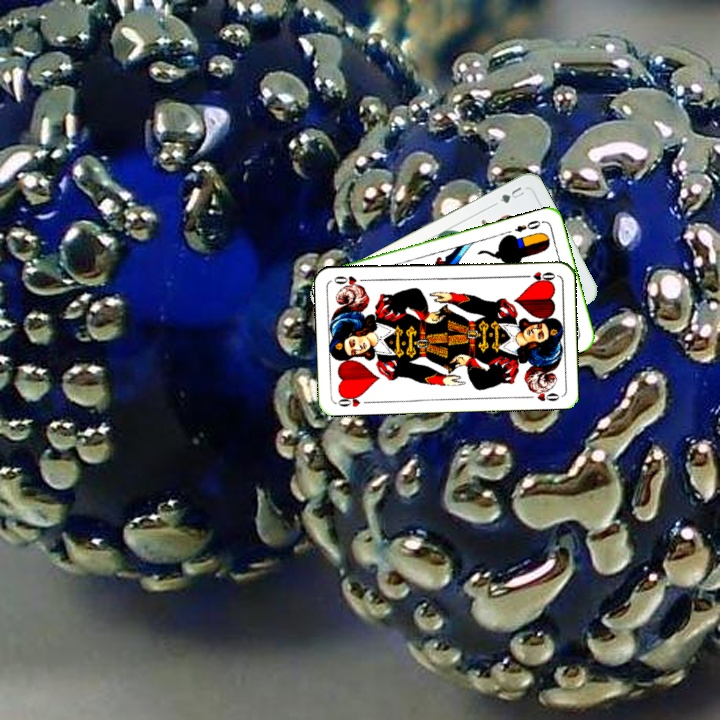EO: (510, 216, 543, 235)
GU: (496, 182, 527, 206)
HO: (333, 390, 373, 409), (518, 267, 558, 284)
